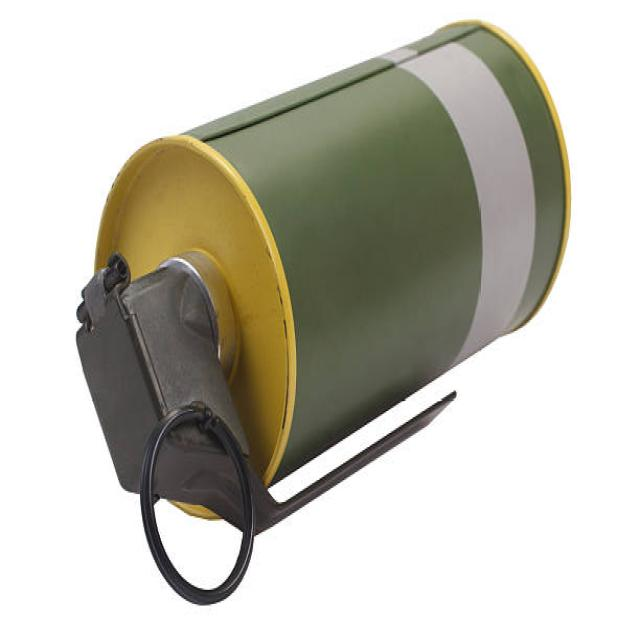grenade: (69, 8, 577, 621)
